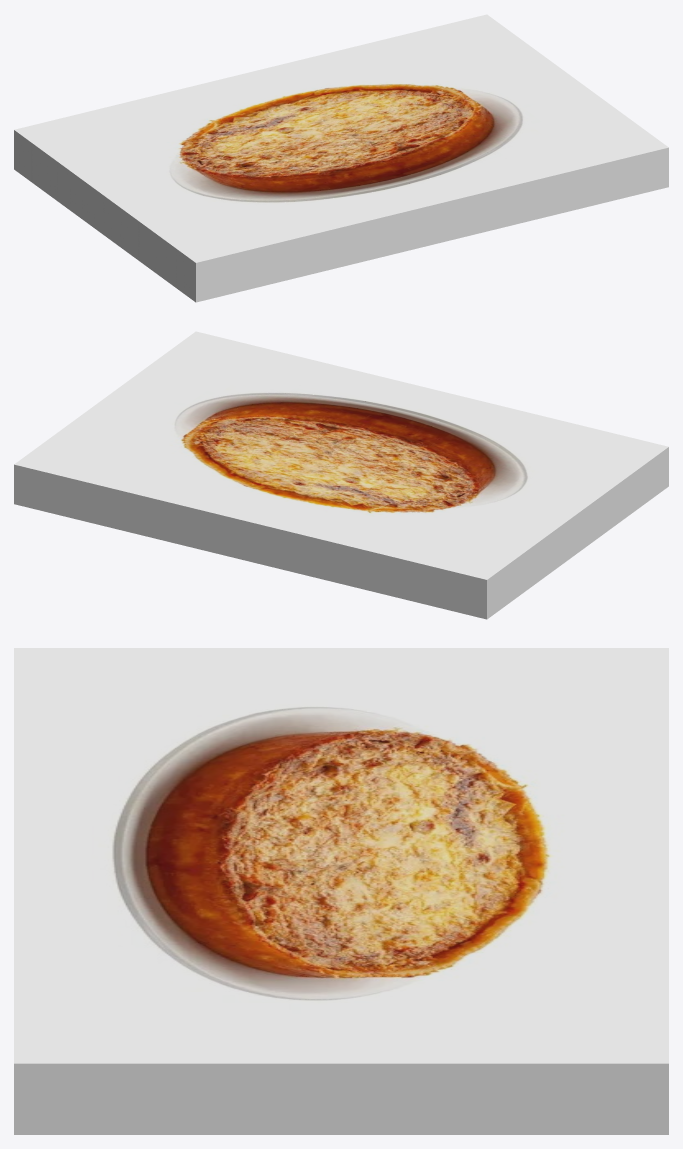
The model's file is empadaofrangopalmitorequeijao.glb.
3 views of the same model, one above another, from view 1: azimuth 30°, elevation 25°; view 2: azimuth 150°, elevation 25°; view 3: azimuth 270°, elevation 25° (orthographic). The views are drawn at different scales.
Size of the model in its own units: 0.1 by 0.008 by 0.0666.
Materials: 1 (1 with a texture image).
